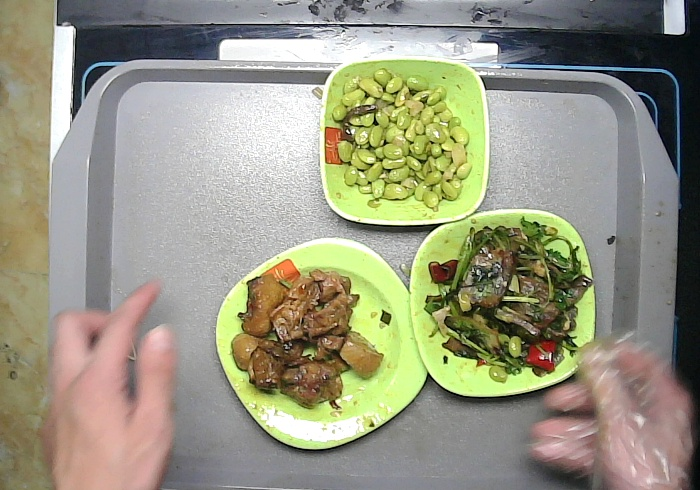SHKJ-Lv_Se_Cai_Die: (409, 209, 597, 398)
SHKJ-Lv_Se_Si_Fang_Cai_Die: (216, 237, 435, 450)
SHKJ-Lv_Se_Xiao_Fang_Die: (319, 55, 489, 226)
